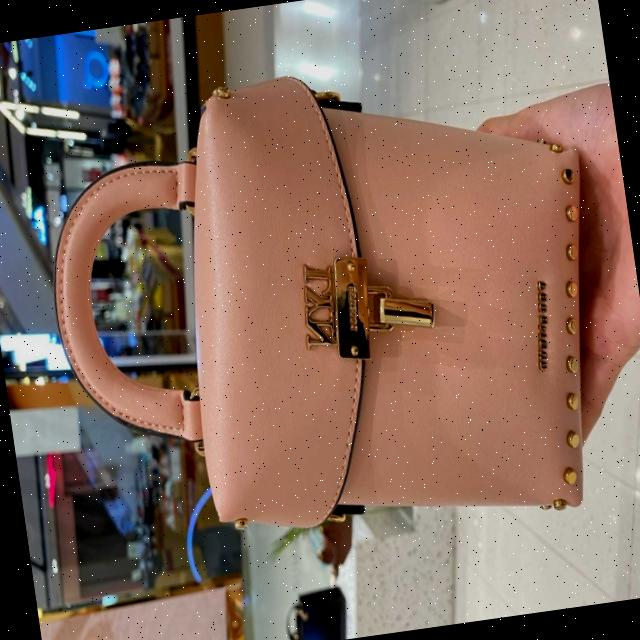handbag: (26, 33, 633, 580)
